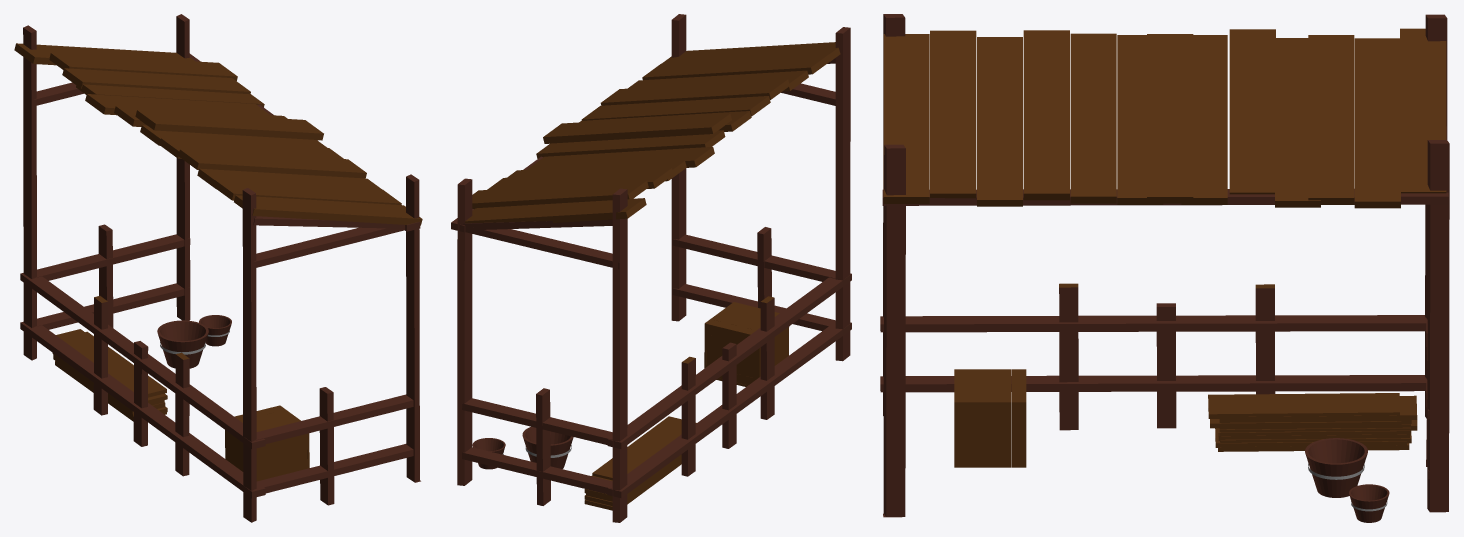
Rendered from barraco de  madeira.fbx.
3 renders of one model, left to right at view 1: azimuth 30°, elevation 25°; view 2: azimuth 150°, elevation 25°; view 3: azimuth 270°, elevation 25°, orthographic. The views are drawn at different scales.
Visible parts, largest first — view 1: Cube.052; view 2: Cube.052; view 3: Cube.052.
Boxes of the visible parts, box(x1,y1,x2,y2) form: Cube.052: box(14, 14, 422, 522); Cube.052: box(451, 14, 851, 522); Cube.052: box(880, 14, 1449, 522).
Bounding box in the file's own units: 500 × 851 × 1071.
